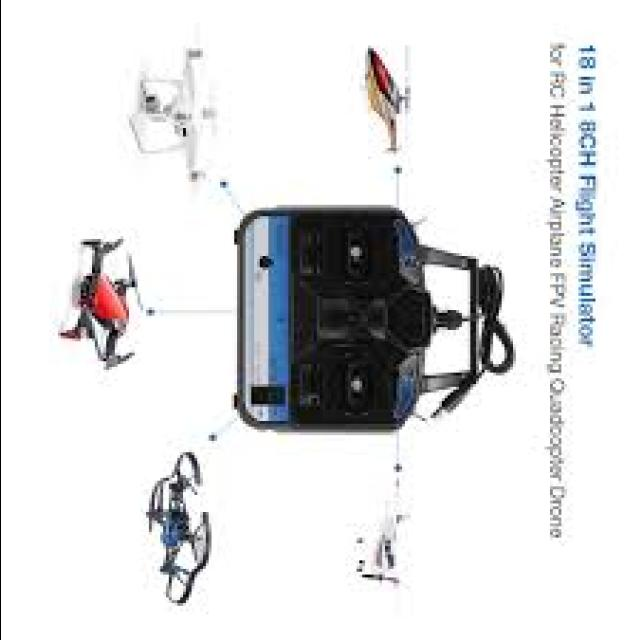drone: (108, 28, 240, 195), (46, 222, 164, 384), (138, 440, 218, 624), (344, 442, 426, 604)
